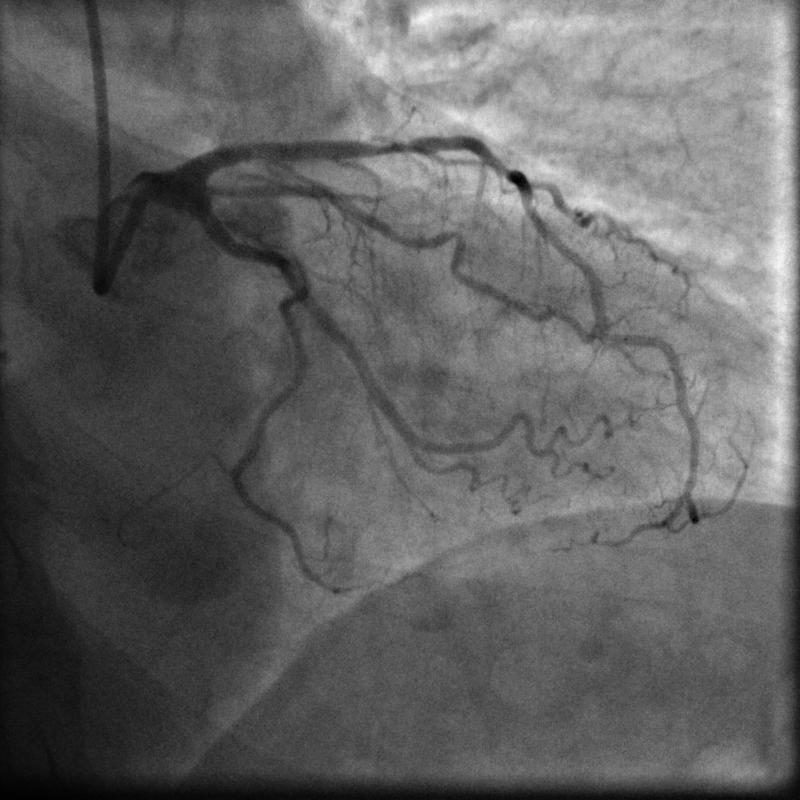Stenosis: (360, 131, 416, 155)
